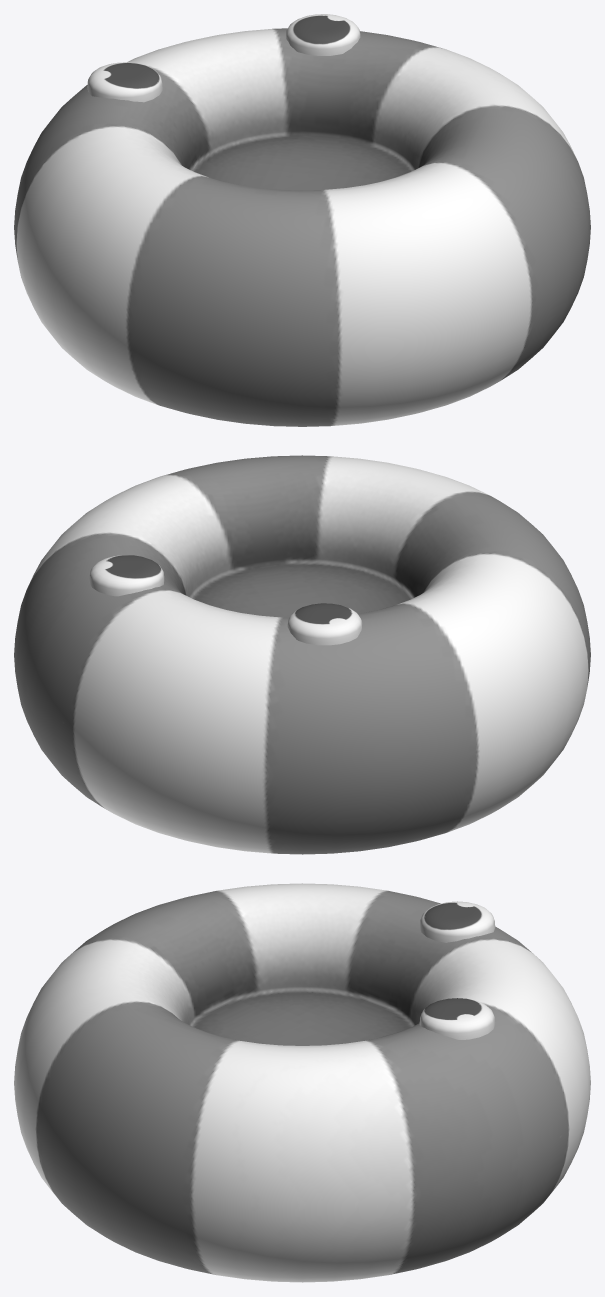
Rendered from Pin_lifebuoy_0.fbx.
3 renders of one model, top to bottom at view 1: azimuth 30°, elevation 25°; view 2: azimuth 150°, elevation 25°; view 3: azimuth 270°, elevation 25°, orthographic.
Visible parts, largest first — view 1: Pin_lifebuoy, polySurface2; view 2: Pin_lifebuoy, polySurface2; view 3: Pin_lifebuoy, polySurface2.
Boxes of the visible parts, box(x1,y1,x2,y2) form: Pin_lifebuoy: box(14, 28, 590, 426); polySurface2: box(87, 14, 360, 102); Pin_lifebuoy: box(14, 455, 590, 854); polySurface2: box(89, 555, 362, 645); Pin_lifebuoy: box(14, 883, 590, 1282); polySurface2: box(419, 901, 495, 1039).
Bounding box in the file's own units: 0.6756 × 0.3013 × 0.6756.
3 materials, 3 textured.
